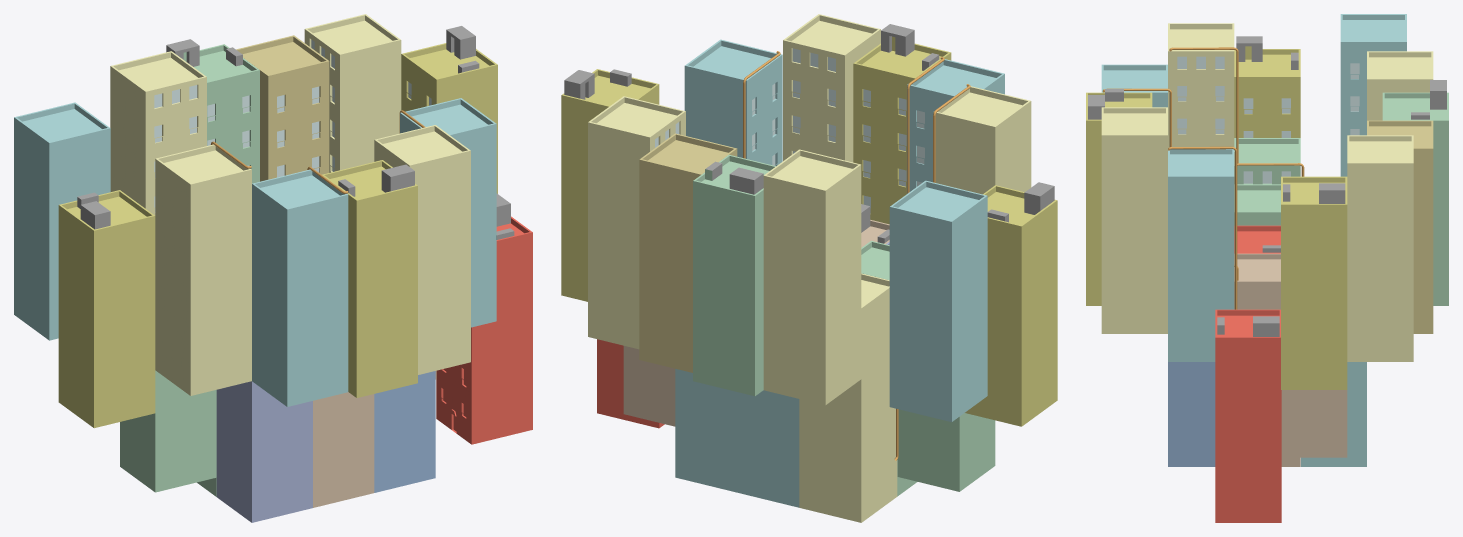
The model's file is ville4.glb.
3 views of the same model, side by side, from view 1: azimuth 30°, elevation 25°; view 2: azimuth 150°, elevation 25°; view 3: azimuth 270°, elevation 25° (orthographic). The views are drawn at different scales.
Parts seen in each view (by area): view 1: Immeuble haut.005, Cube.010, Cube.013, Cube.012, Cube.011, Immeuble haut.006, Immeuble numéro 1.001, Cube.001, Immeuble haut.003, Immeuble haut.004, Cube.007, Immeuble haut.007 (+5 smaller); view 2: Immeuble haut.003, Cube.011, Cube.010, Cube.006, Immeuble haut.002, Immeuble haut.004, Cube.007, Immeuble haut.006, Cube.012, Cube.009, Immeuble haut.005, Cube.008 (+8 smaller); view 3: Immeuble haut.006, Immeuble haut.004, Cube.008, Immeuble numéro 1.001, Cube.009, Immeuble haut.005, Cube.010, Cube.007, Cube.011, Cube.006, Immeuble haut.001, Cube.014 (+10 smaller).
Boxes of the visible parts, x1,y1,x2,y2 form: Immeuble haut.005: (155, 144, 251, 395); Cube.010: (58, 190, 155, 428); Cube.013: (252, 169, 348, 406); Cube.012: (322, 160, 417, 397); Cube.011: (14, 102, 110, 340); Immeuble haut.006: (374, 125, 470, 374); Immeuble numéro 1.001: (436, 193, 532, 444); Cube.001: (216, 381, 312, 522); Immeuble haut.003: (110, 51, 206, 215); Immeuble haut.004: (304, 14, 401, 172); Cube.007: (236, 35, 329, 181); Immeuble haut.007: (120, 370, 216, 492); Immeuble haut.003: (763, 149, 861, 405); Cube.011: (889, 180, 987, 422); Cube.010: (965, 182, 1057, 426); Cube.006: (693, 154, 775, 396); Immeuble haut.002: (799, 273, 897, 522); Immeuble haut.004: (588, 96, 685, 349); Cube.007: (639, 133, 737, 372); Immeuble haut.006: (783, 14, 880, 162); Cube.012: (853, 24, 951, 224); Cube.009: (684, 39, 782, 166); Immeuble haut.005: (933, 86, 1031, 194); Cube.008: (561, 69, 659, 301); Immeuble haut.006: (1101, 107, 1167, 333); Immeuble haut.004: (1347, 135, 1413, 361); Cube.008: (1281, 176, 1347, 389); Immeuble numéro 1.001: (1215, 309, 1281, 522); Cube.009: (1168, 149, 1234, 361); Immeuble haut.005: (1168, 23, 1234, 147); Cube.010: (1234, 36, 1300, 137); Cube.007: (1367, 120, 1433, 333); Cube.011: (1340, 14, 1406, 176); Cube.006: (1382, 80, 1448, 305); Immeuble haut.001: (1168, 362, 1215, 466); Cube.014: (1281, 390, 1347, 457).
Size of the model in its own units: 70.07 by 55.59 by 54.75.
